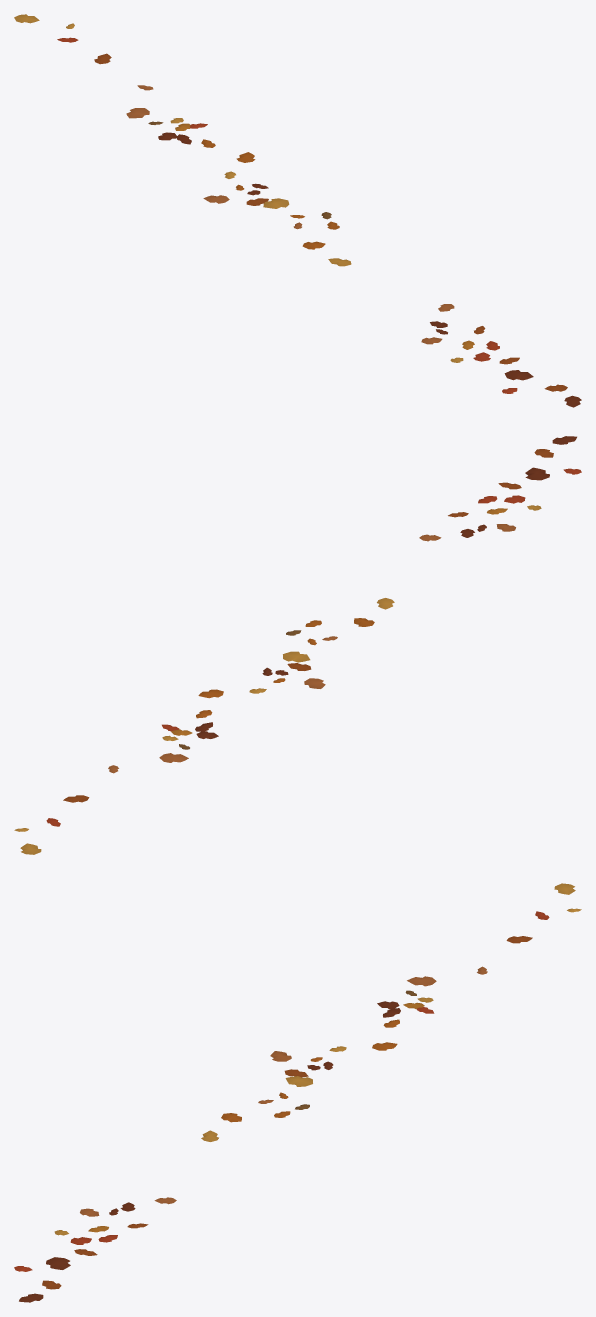
The model's file is w0b-avenue-litter-drift.glb.
3 renders of one model, top to bottom at view 1: azimuth 30°, elevation 25°; view 2: azimuth 150°, elevation 25°; view 3: azimuth 330°, elevation 25°, orthographic. The views are drawn at different scales.
Parts seen in each view (by area): view 1: w0b-avenue-litter-drift; view 2: w0b-avenue-litter-drift; view 3: w0b-avenue-litter-drift.
Part boxes in pixels (x1,y1,x2,y2): w0b-avenue-litter-drift: (14, 14, 581, 407); w0b-avenue-litter-drift: (14, 436, 581, 854); w0b-avenue-litter-drift: (14, 883, 581, 1302).
Bounding box in the file's own units: 0.5845 × 0.0174 × 6.63.
